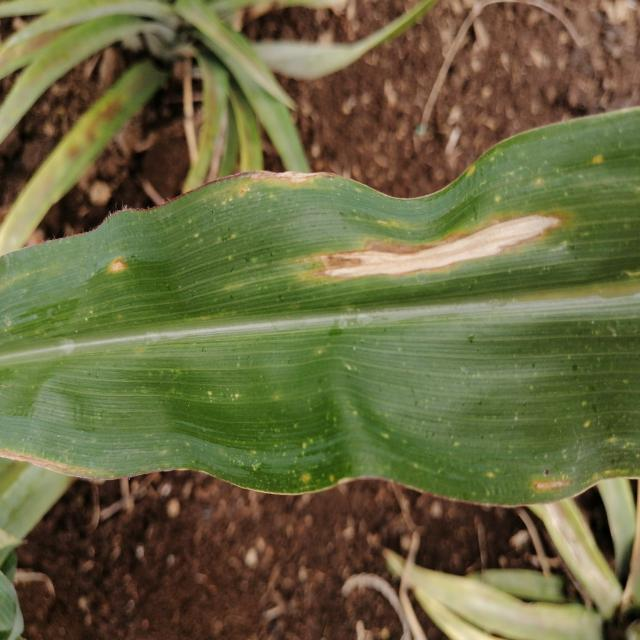Corn_Leaf_Blight: (221, 105, 640, 511)
